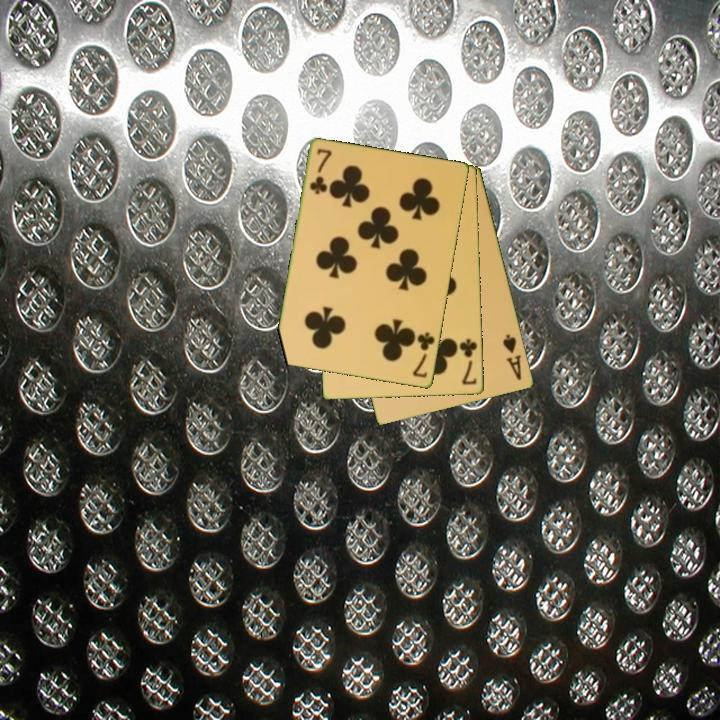7c: (409, 329, 438, 381), (306, 145, 335, 197), (456, 336, 481, 388)
As: (500, 331, 525, 383)
